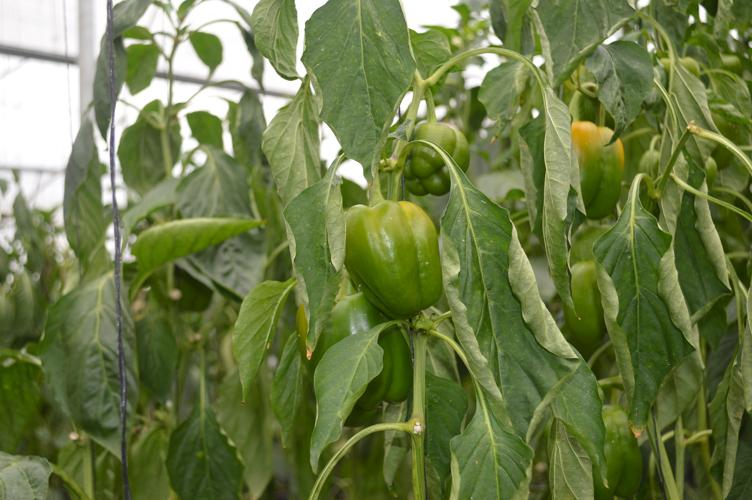BellPepper: (350, 204, 445, 312), (318, 291, 411, 401), (556, 402, 645, 490), (568, 125, 628, 219), (561, 222, 604, 350), (400, 116, 470, 193)
